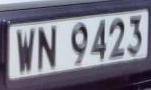2: (108, 14, 128, 65)
3: (127, 14, 144, 61)
4: (90, 14, 109, 68)
9: (69, 19, 90, 69)
N: (36, 23, 60, 76)
W: (13, 24, 38, 78)
